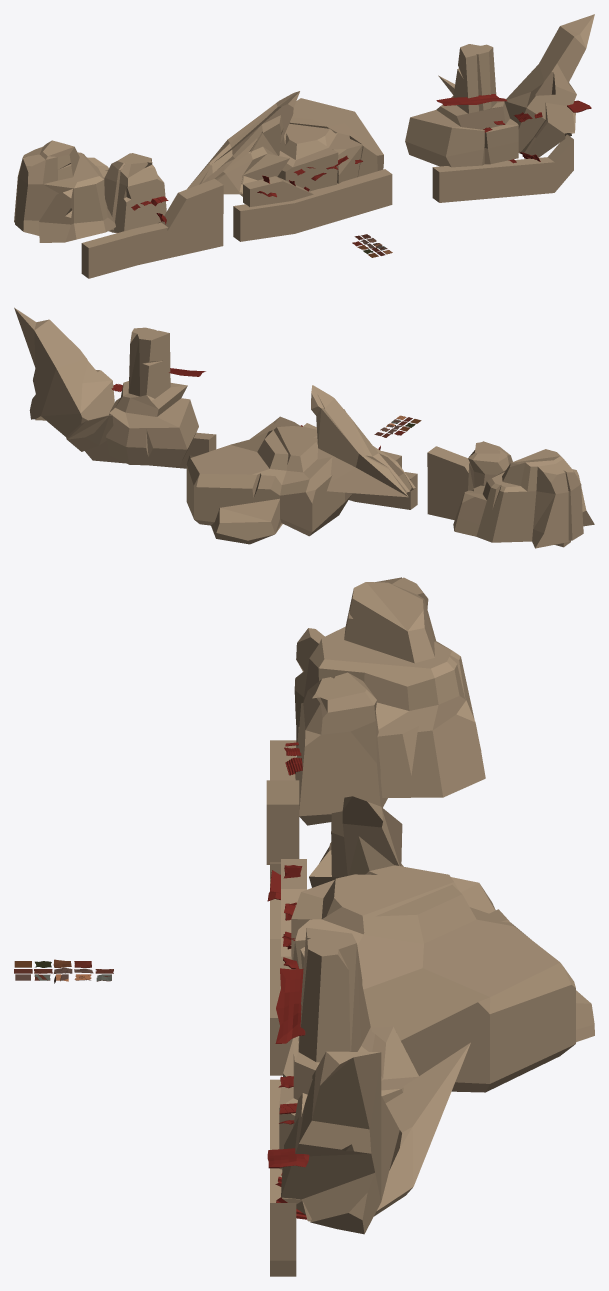
The picture shows the model from 3 angles, top to bottom: view 1: azimuth 30°, elevation 25°; view 2: azimuth 150°, elevation 25°; view 3: azimuth 270°, elevation 25°; orthographic projection. The views are drawn at different scales.
Parts seen in each view (by area): view 1: Cube.063, Cube.058, Cube.061, Cube.062, Cube.023, Cube.042, Cube.005, Cube.060, Cube.059, Cube.009, Cube.015, WB_iron_board.014; view 2: Cube.061, Cube.058, Cube.063, Cube.062, Cube.060, Cube.009, Cube.059, Cube.042, Cube.005, Cube.023; view 3: Cube.061, Cube.058, Cube.062, Cube.063, Cube.059, Cube.060, Cube.042, Cube.009, Cube.023, WB_iron_board.014, Cube.015, Cube.005.
Boxes of the visible parts, box(x1,y1,x2,y2) form: Cube.063: box(405, 44, 518, 167); Cube.058: box(14, 140, 115, 242); Cube.061: box(240, 98, 383, 196); Cube.062: box(438, 14, 594, 157); Cube.023: box(233, 169, 392, 241); Cube.042: box(432, 134, 573, 202); Cube.005: box(81, 217, 223, 278); Cube.060: box(187, 91, 299, 194); Cube.059: box(104, 153, 166, 232); Cube.009: box(160, 179, 223, 230); Cube.015: box(243, 176, 313, 206); WB_iron_board.014: box(436, 94, 507, 105); Cube.061: box(186, 416, 351, 544); Cube.058: box(453, 449, 594, 548); Cube.063: box(106, 327, 198, 465); Cube.062: box(14, 307, 114, 451); Cube.060: box(311, 385, 415, 497); Cube.009: box(427, 446, 469, 493); Cube.059: box(468, 441, 512, 490); Cube.042: box(85, 432, 216, 468); Cube.005: box(427, 485, 570, 547); Cube.023: box(349, 472, 417, 509); Cube.061: box(291, 865, 594, 1092); Cube.058: box(294, 577, 485, 797); Cube.062: box(281, 1042, 470, 1234); Cube.063: box(279, 927, 418, 1169); Cube.059: box(295, 672, 387, 825); Cube.060: box(309, 795, 403, 887); Cube.042: box(270, 1079, 296, 1276); Cube.009: box(266, 780, 299, 864); Cube.023: box(270, 879, 292, 1075); WB_iron_board.014: box(275, 968, 305, 1043); Cube.015: box(281, 859, 306, 956); Cube.005: box(270, 740, 296, 878).
Bounding box in the file's own units: 21986 × 5455 × 10387.
